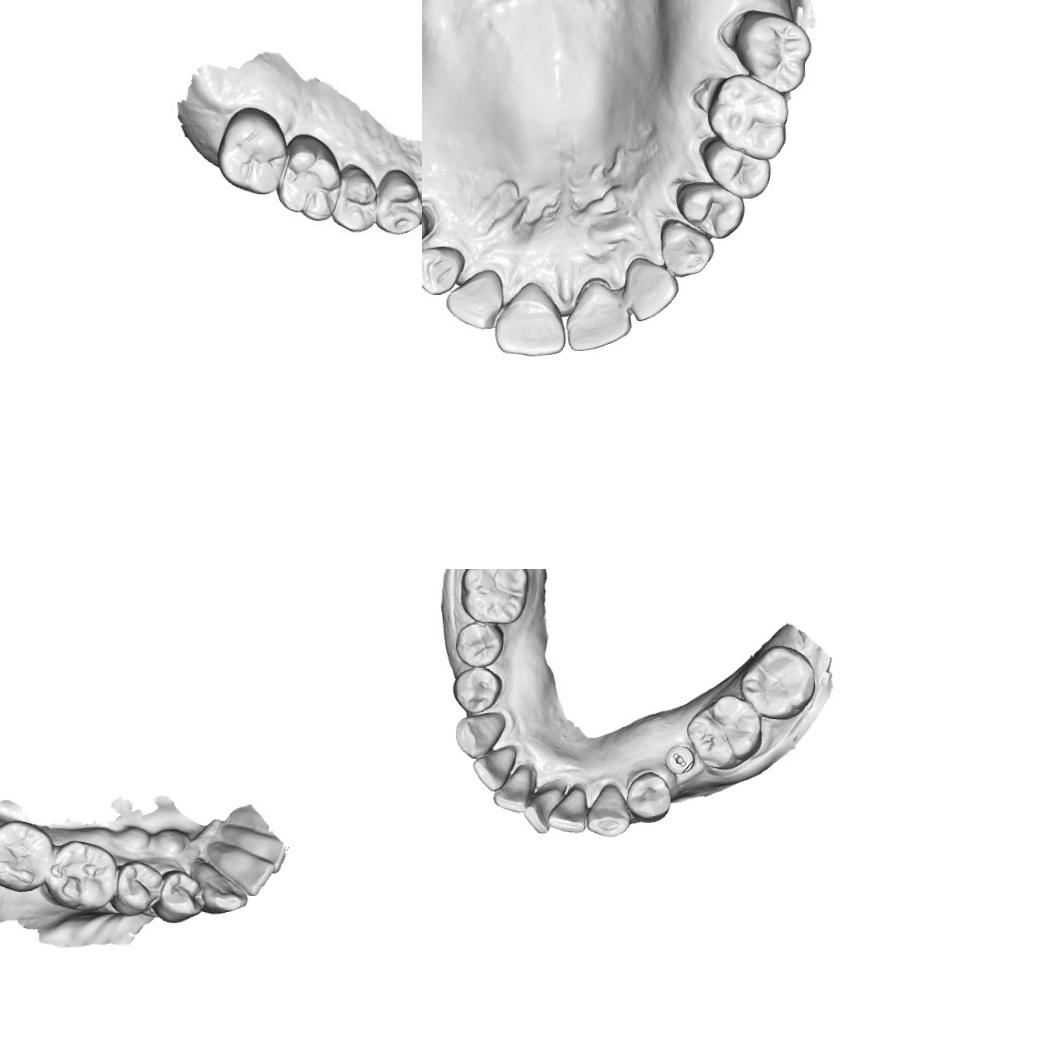canine: (656, 218, 717, 279), (188, 856, 250, 916), (586, 781, 634, 839), (453, 710, 506, 761), (422, 242, 466, 298)
implant_minus: (664, 744, 696, 776)
incisor: (491, 278, 571, 359), (564, 278, 634, 354), (443, 266, 506, 332), (624, 256, 682, 324), (225, 853, 276, 897), (471, 744, 517, 792), (546, 785, 588, 834), (492, 765, 533, 814), (522, 786, 562, 834), (253, 831, 289, 874)
molar: (704, 70, 790, 164), (730, 7, 814, 98), (684, 692, 764, 771), (738, 643, 817, 721), (219, 107, 291, 191), (42, 838, 118, 913), (278, 138, 343, 216), (0, 818, 55, 893), (459, 569, 530, 625)
premolar: (698, 136, 773, 202), (672, 178, 746, 241), (112, 858, 164, 918), (336, 170, 378, 242), (152, 868, 206, 924), (376, 171, 422, 234), (450, 665, 504, 715), (625, 769, 673, 824), (454, 620, 504, 667)
